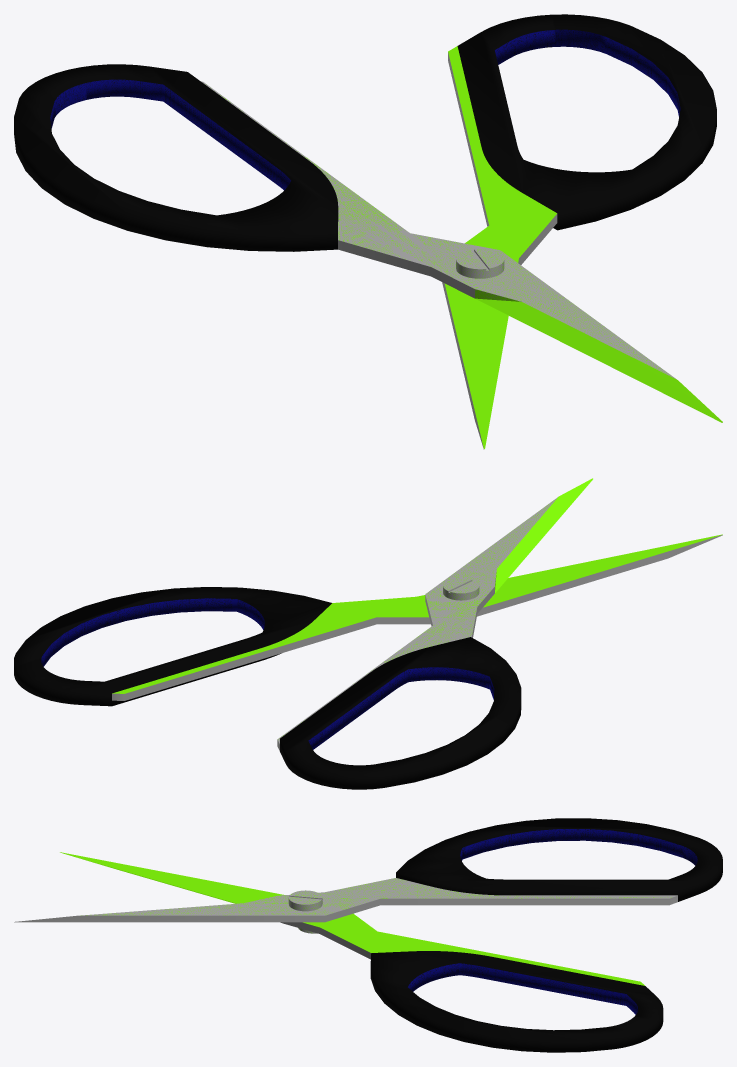
File: scissors_07_origin_gt_2.dae
The picture shows the model from 3 angles, top to bottom: view 1: azimuth 30°, elevation 25°; view 2: azimuth 150°, elevation 25°; view 3: azimuth 270°, elevation 25°; orthographic projection. The views are drawn at different scales.
Visible parts, largest first — view 1: Component_1 (×10); view 2: Component_1 (×9); view 3: Component_1 (×9).
Boxes of the visible parts, x1,y1,x2,y2 form: Component_1 (×10): (14, 14, 722, 448); Component_1 (×9): (14, 478, 722, 789); Component_1 (×9): (14, 818, 722, 1052).
Size of the model in its own units: 5.57 by 7.92 by 0.3264.
